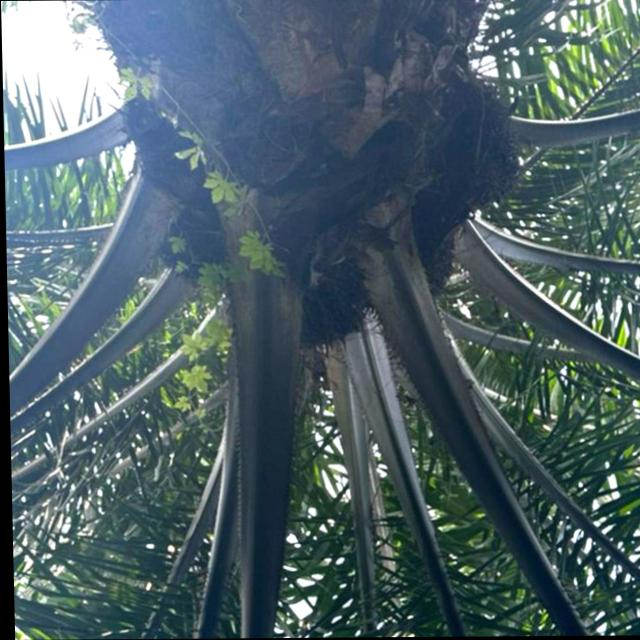almost: (296, 251, 374, 356)
